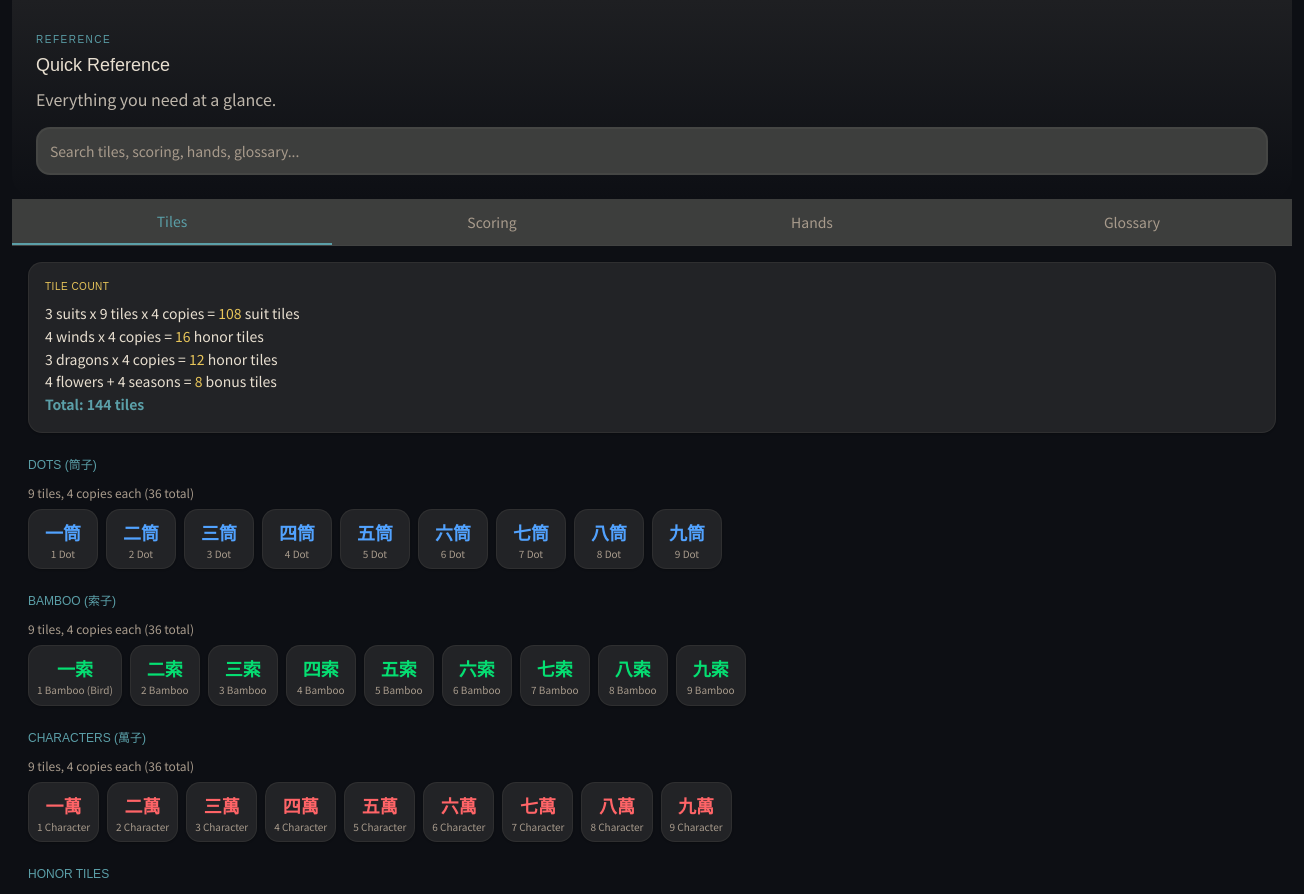
Test: ReferencePage › clicking "Scoring" tab shows fan table with "Self-Drawn" entry
Step 1. Click the tab "Scoring" → (492, 222), box [332,199,652,245]
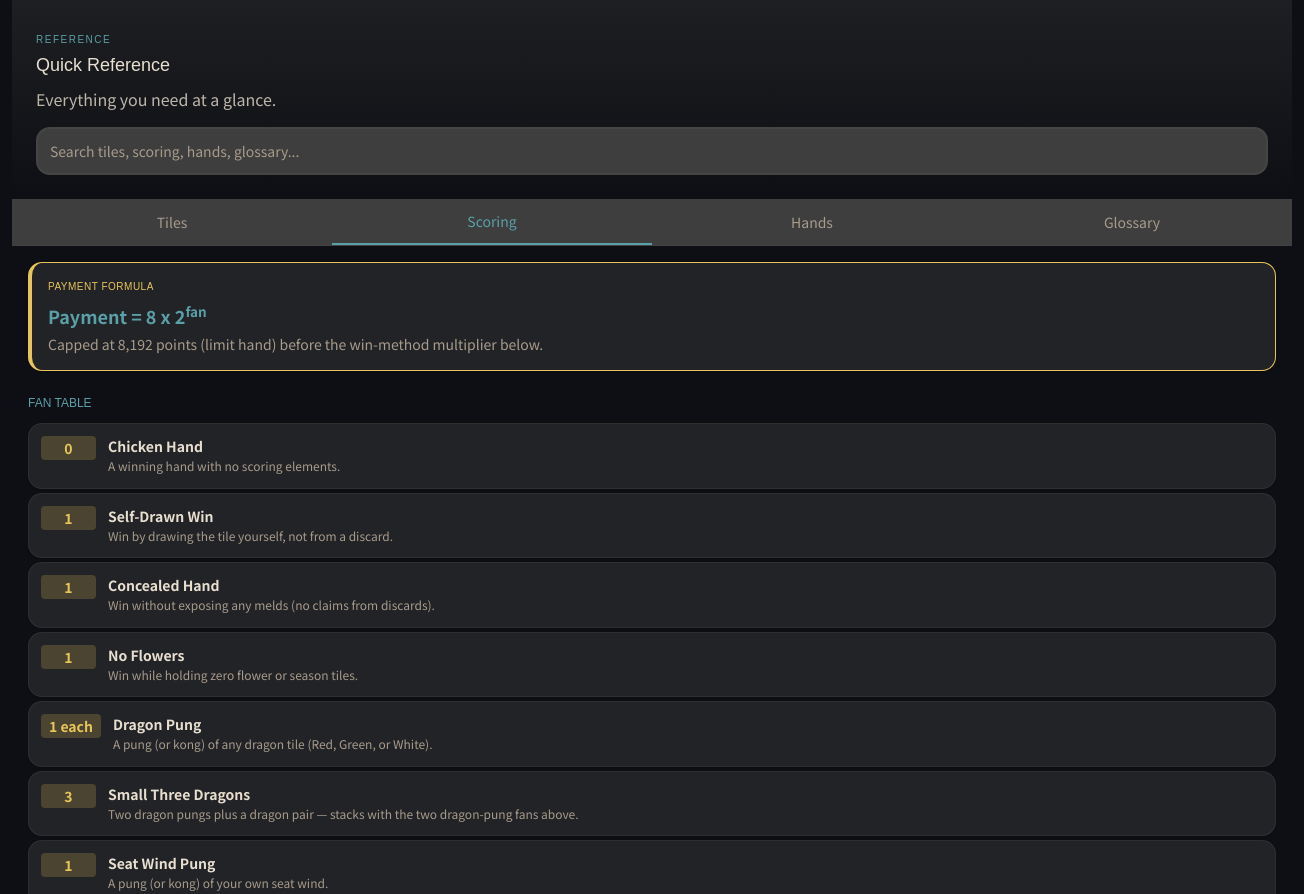
Expected: the text "Self-Drawn Win" is shown, [108,506,214,526]
Expected: the heading "FAN TABLE" is shown, [28,396,92,410]
